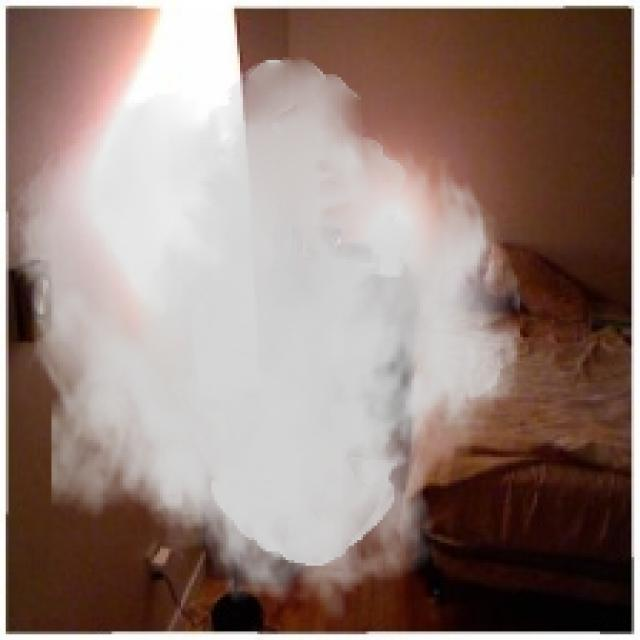smoke: (6, 57, 528, 623)
